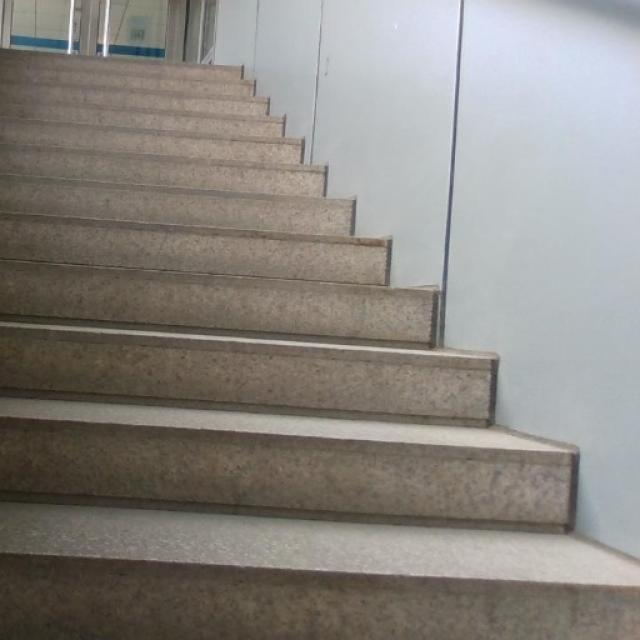Stairs: (0, 42, 639, 638)
